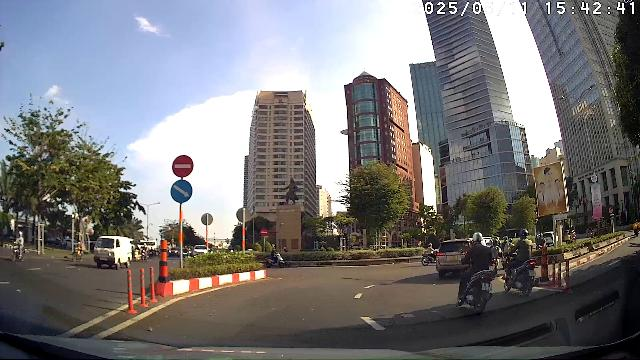102-cam-di-nguoc-chieu: (171, 154, 194, 178)
302a-huong-phai-di-vong-chuong-ngai-vat-1: (170, 179, 193, 204)
